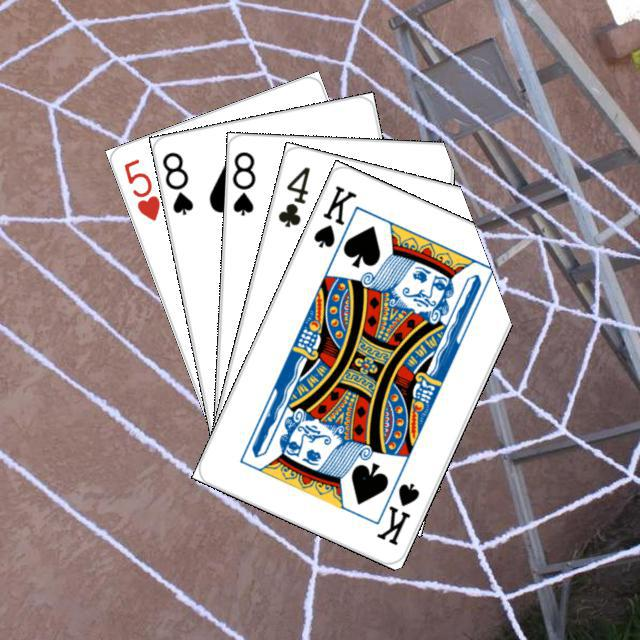4c: (273, 161, 312, 230)
5h: (118, 153, 162, 223)
8s: (158, 147, 195, 217), (228, 147, 257, 217)
Ks: (371, 467, 422, 547), (308, 180, 359, 250)
